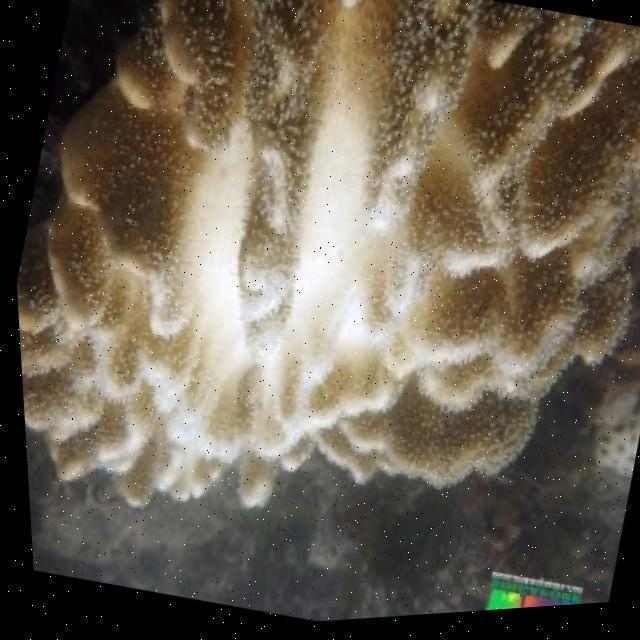Bleached Coral: (104, 0, 438, 513)
